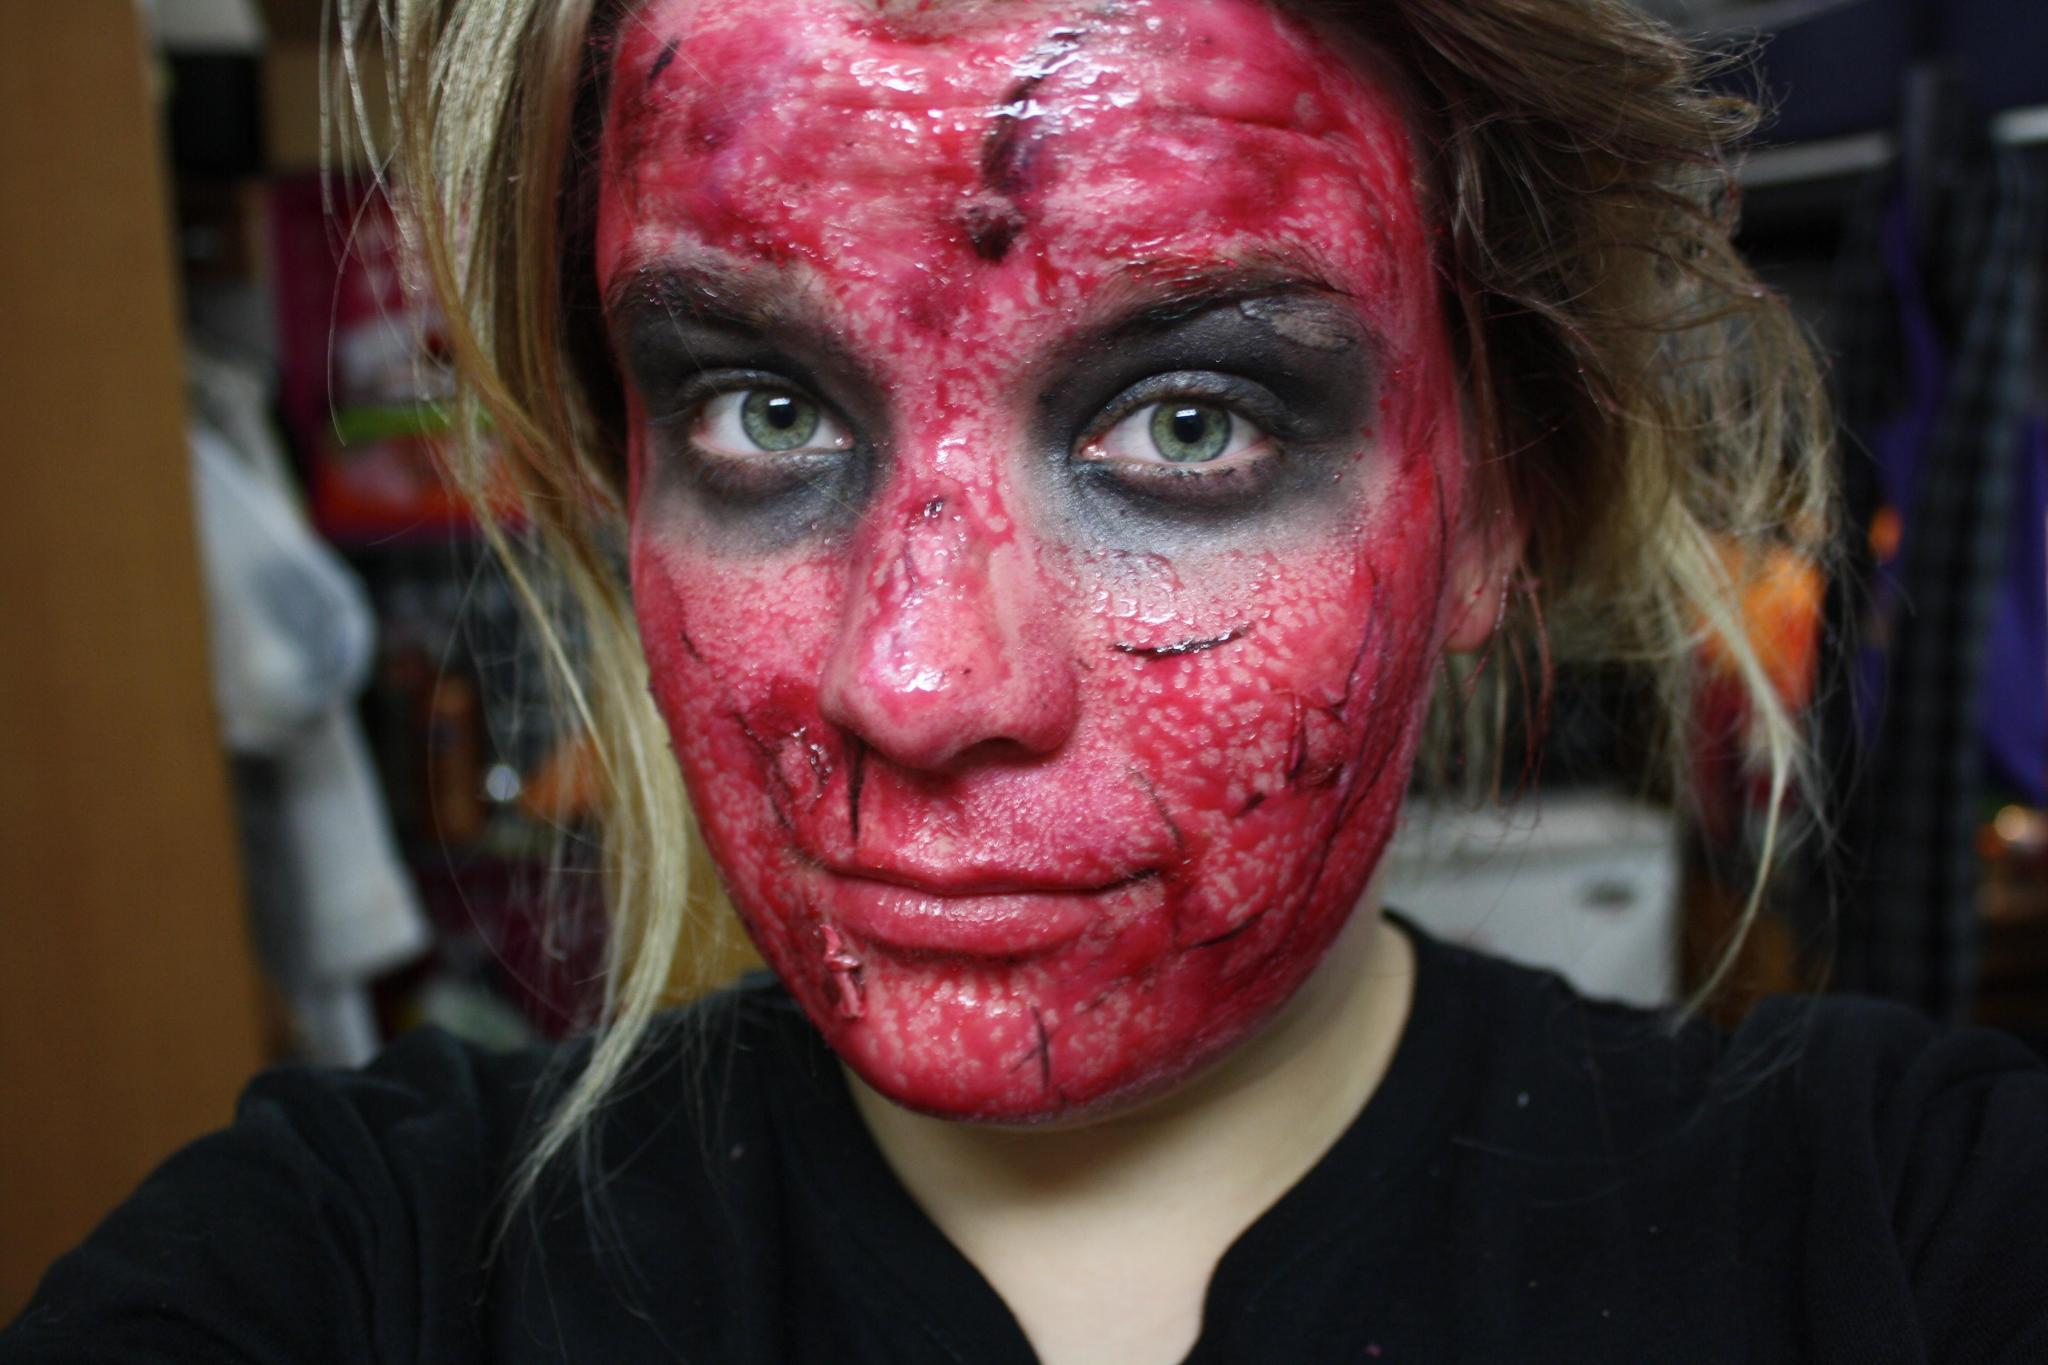Fire: (597, 2, 1515, 1126)
